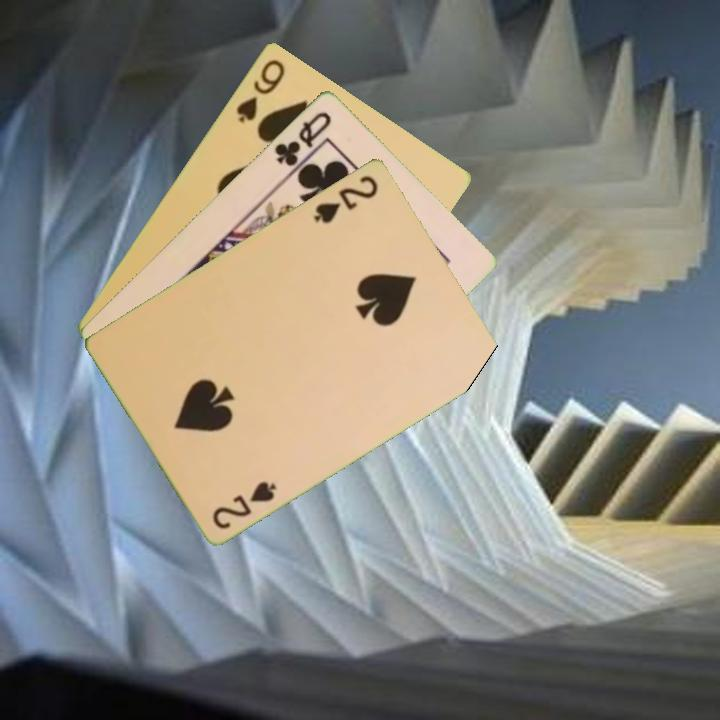2s: (208, 476, 280, 532), (310, 171, 382, 226)
9s: (232, 55, 288, 125)
Qc: (270, 107, 335, 177)
